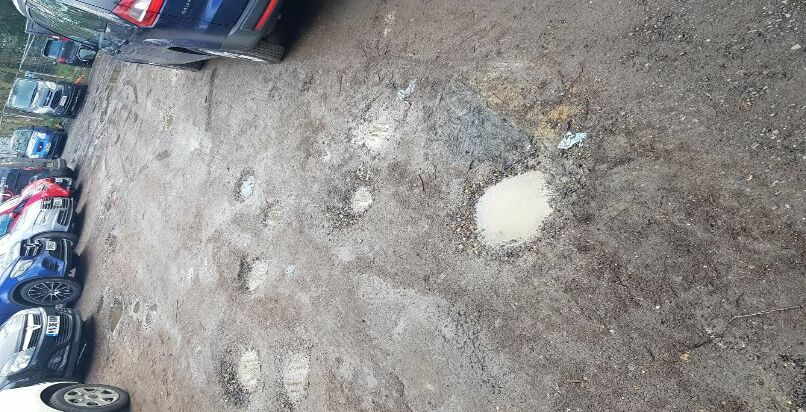pothole: (460, 157, 558, 257), (326, 165, 381, 229), (217, 338, 269, 403), (273, 339, 319, 412), (233, 249, 270, 292), (233, 167, 259, 202)
